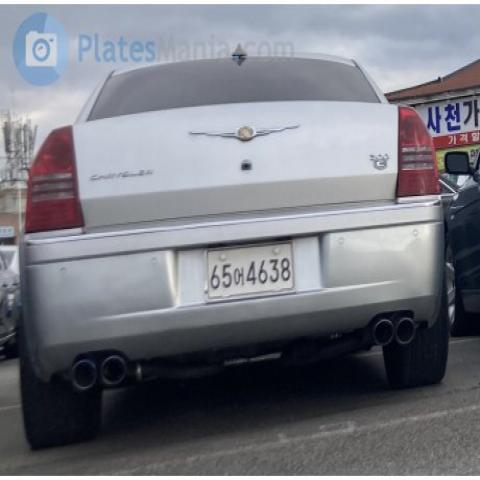LP: (198, 232, 300, 314)
